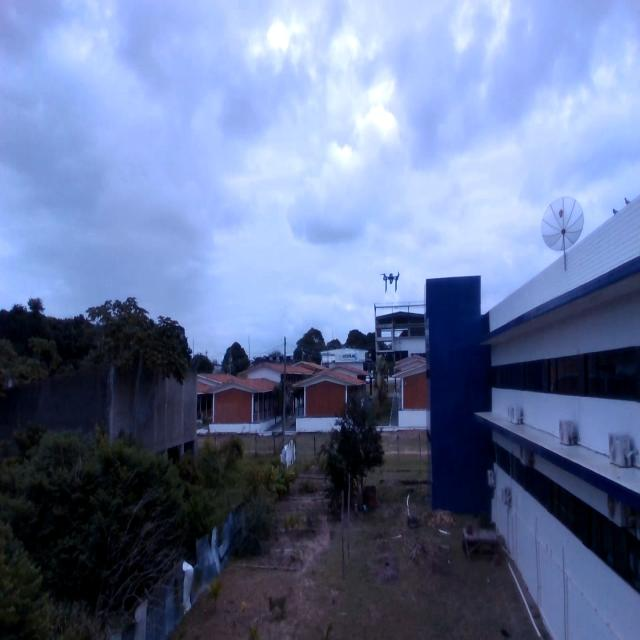-uav-: (374, 261, 406, 305)
